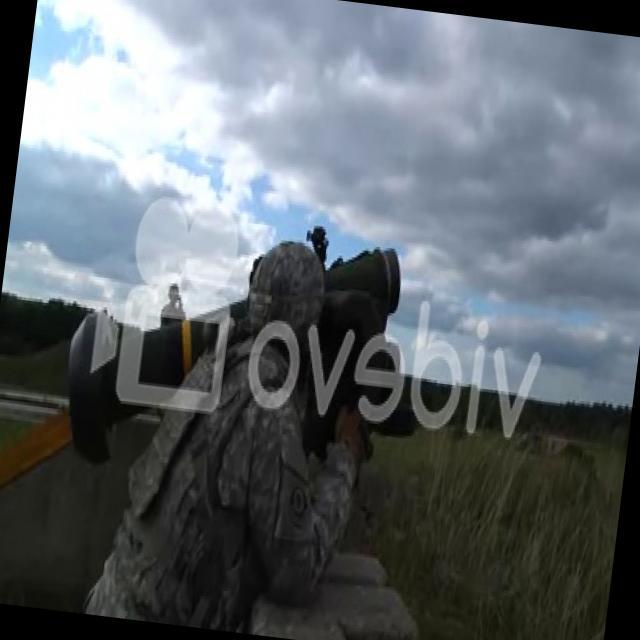rocket: (54, 209, 402, 489)
